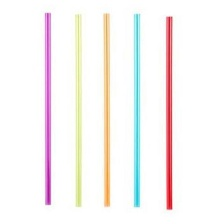drinking_straw: (37, 9, 57, 211), (97, 11, 115, 212), (70, 10, 86, 212), (161, 12, 176, 213), (130, 10, 144, 211)
